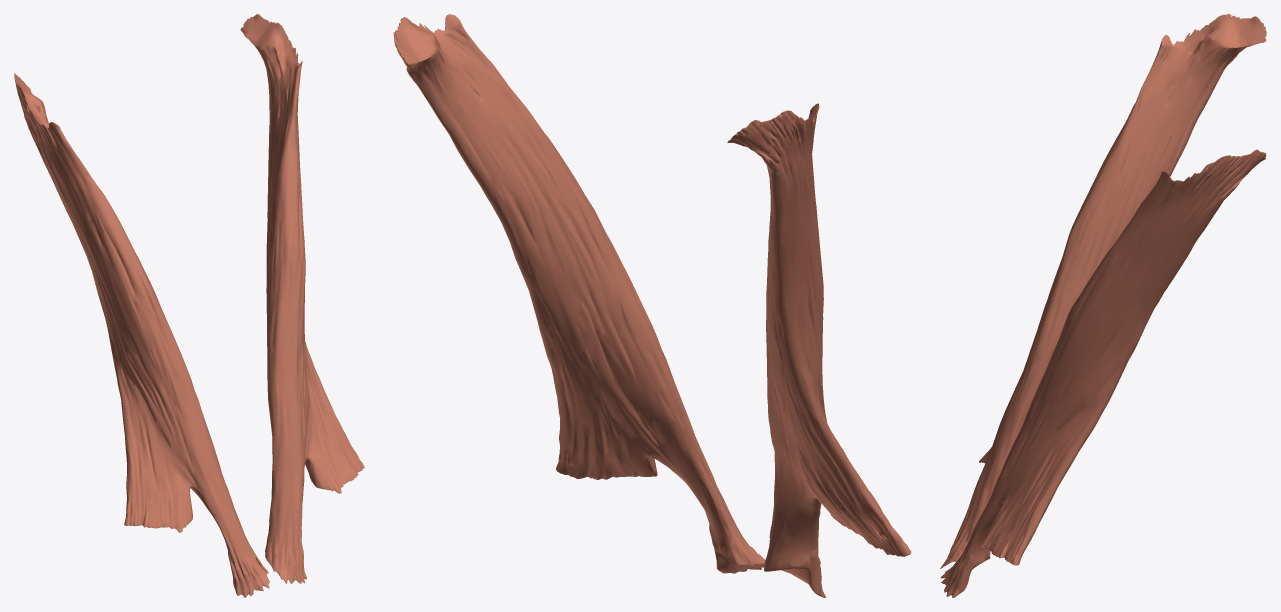
The model's file is scm.glb.
The picture shows the model from 3 angles, left to right: view 1: azimuth 30°, elevation 25°; view 2: azimuth 150°, elevation 25°; view 3: azimuth 270°, elevation 25°; orthographic projection. The views are drawn at different scales.
Visible parts, largest first — view 1: grp1; view 2: grp1; view 3: grp1.
Part boxes in pixels (left/top/right/bottom): grp1: left=14, top=14, right=364, bottom=597; grp1: left=393, top=14, right=911, bottom=597; grp1: left=940, top=14, right=1266, bottom=597.
Size of the model in its own units: 0.1247 by 0.2012 by 0.1197.
